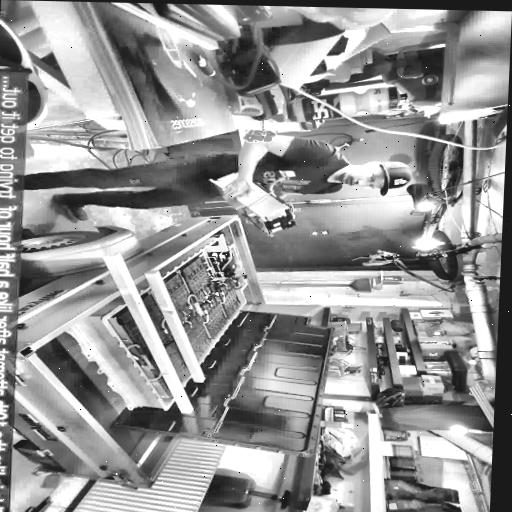b_casing: (111, 309, 335, 458)
battery_module: (213, 172, 296, 236)
